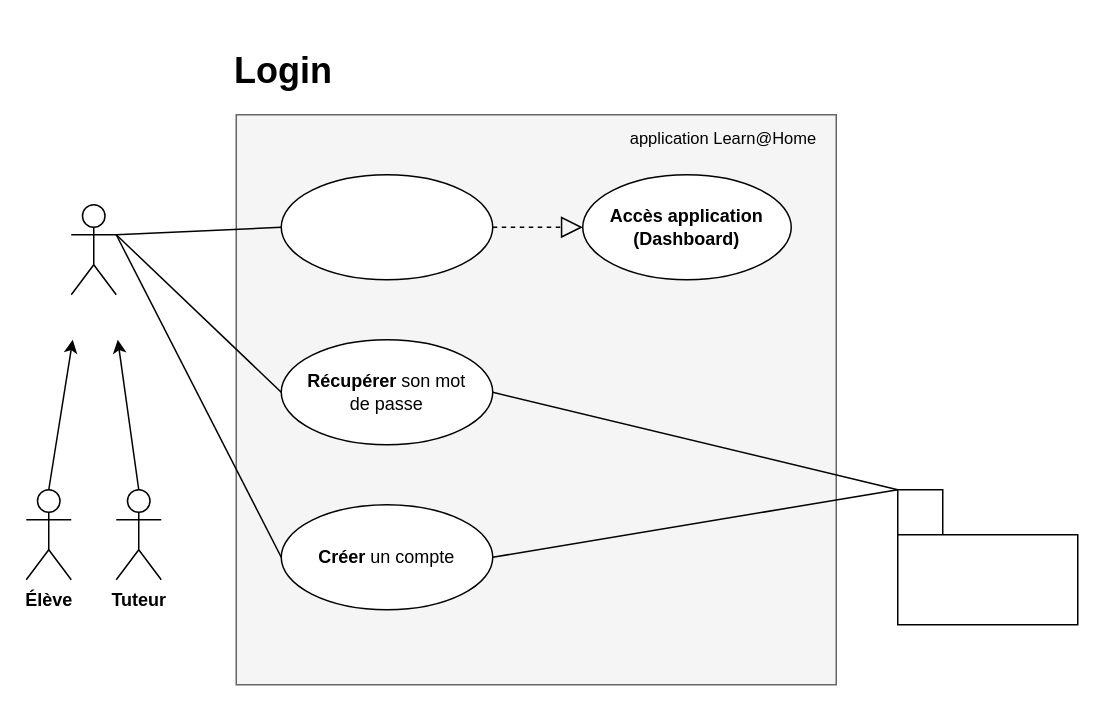
The diagram is 1104 pixels wide and 711 high, and some of its shapes have lost their labels. The centre of each missing label's shape, as x and y in pixels:
"S'authentifier" goes at pixel 386 226.
"Système" goes at pixel 987 579.
"Utilisateur" goes at pixel 93 249.
